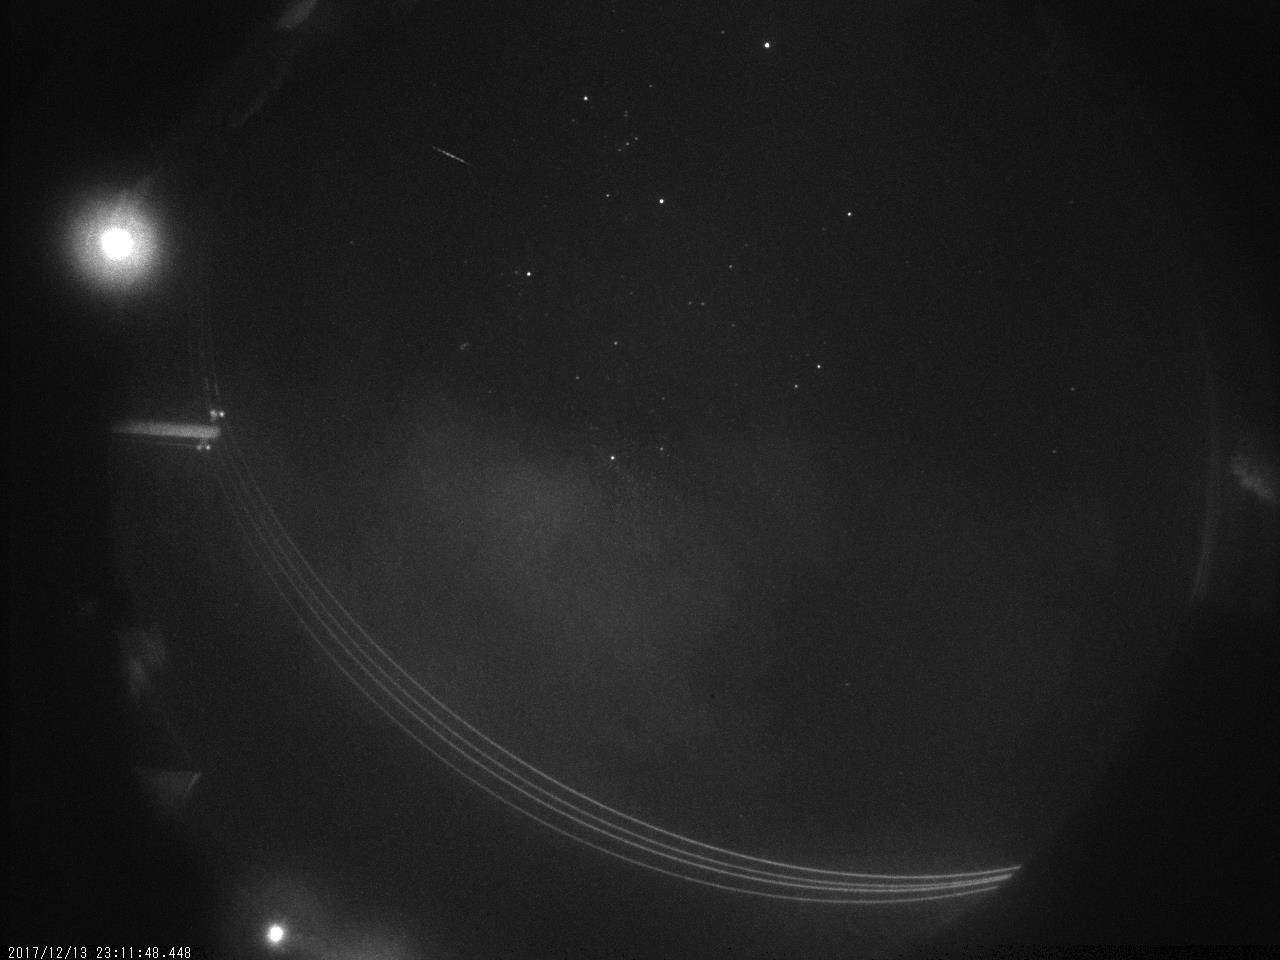Meteor: (428, 140, 479, 171)
